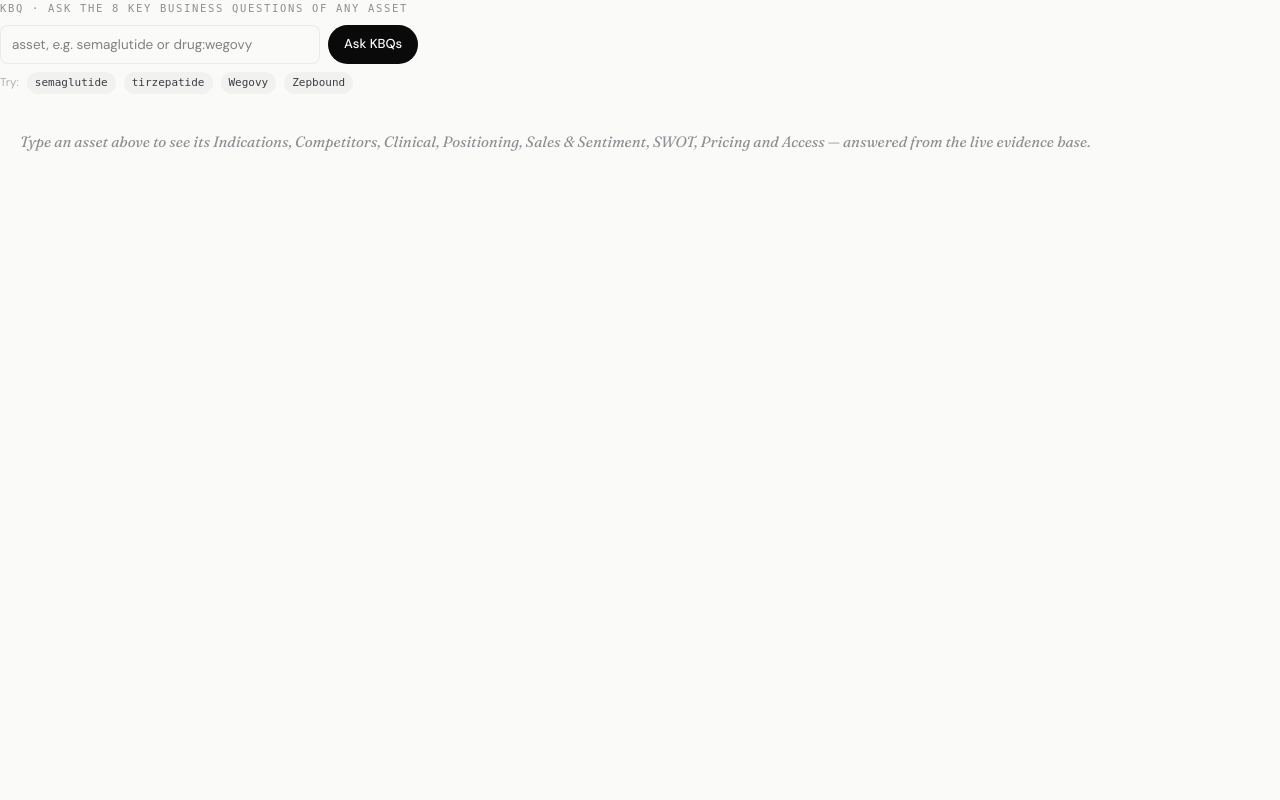
KbqQueryTab (PB-SL10) › opens the provenance drawer with linked facts when an item is clicked
The width and height of the screenshot is (1280, 800).
Type "semaglutide" into the field with test id "kbq-asset-input". click: (160, 45)
box: [0,25,320,64]
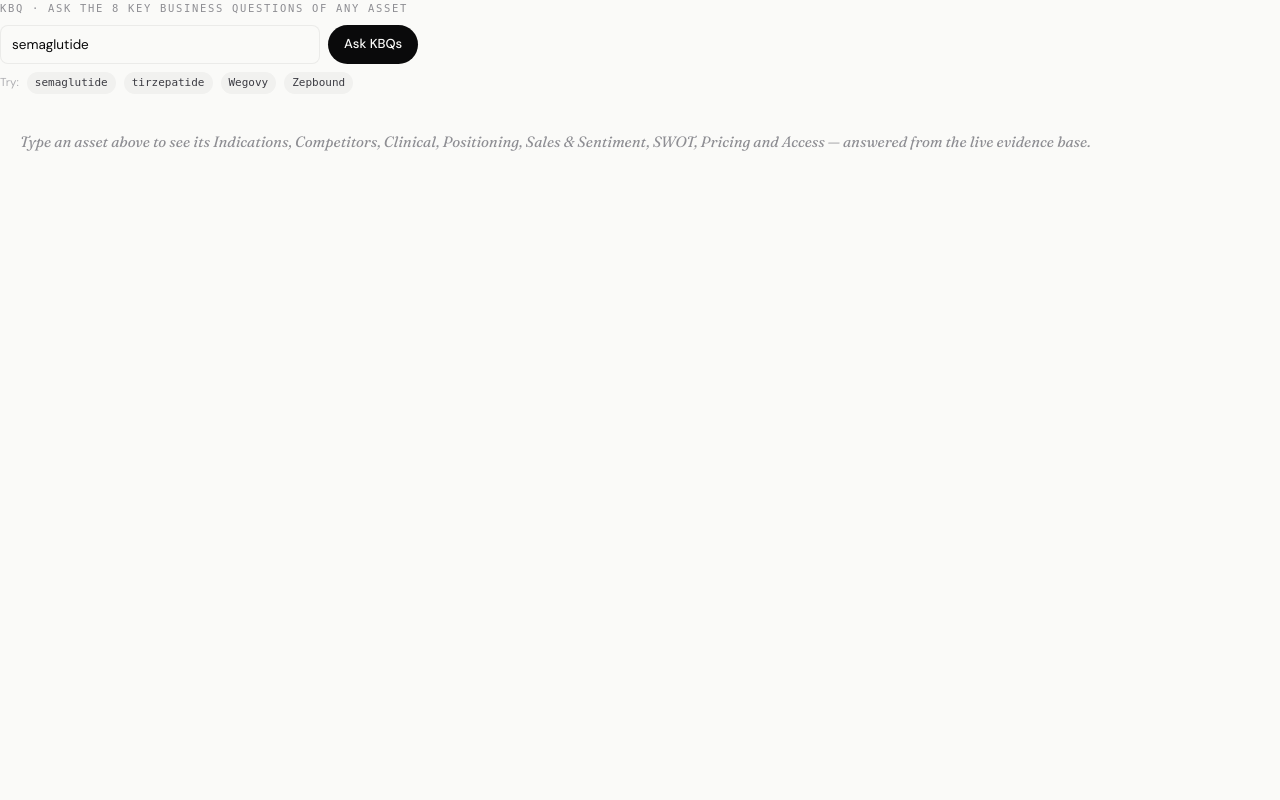
Click the button with test id "kbq-ask". click: (373, 45)
box: [328,25,418,64]
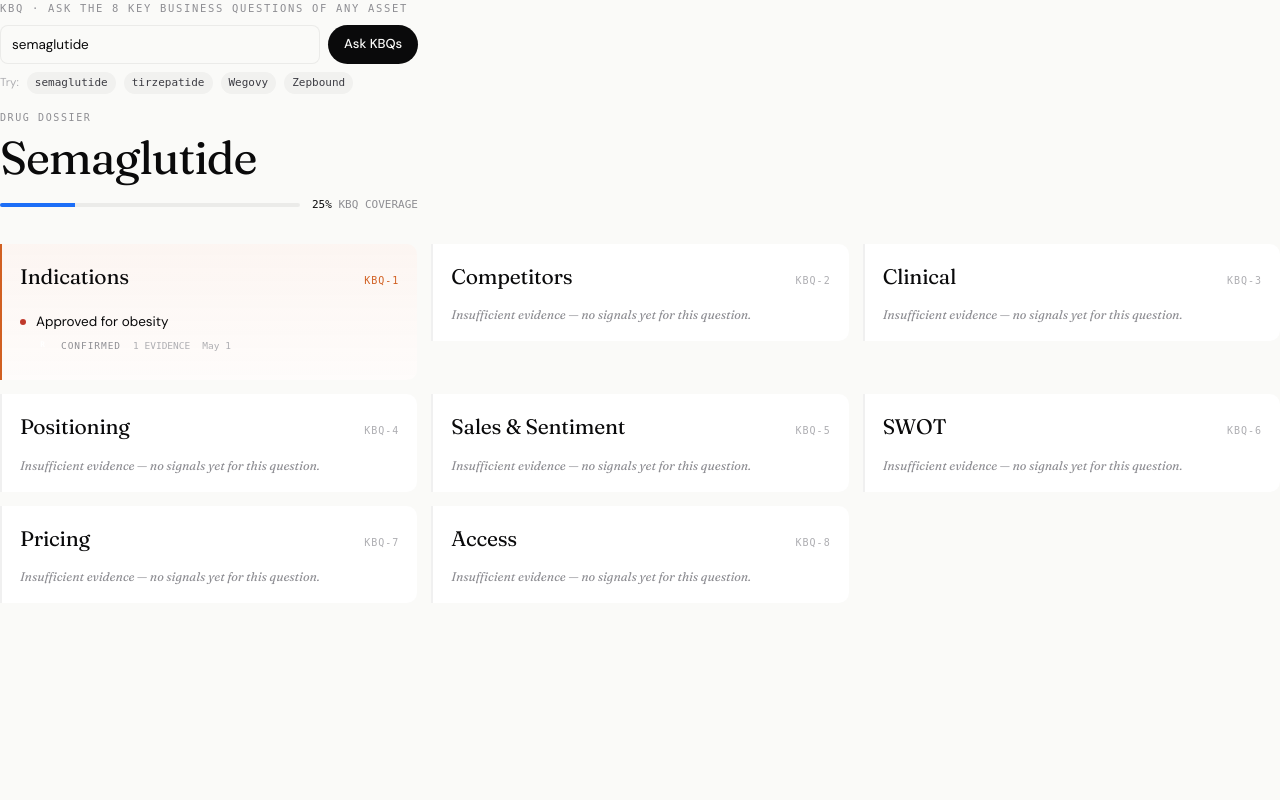
expect the element with test id "kbq-ready" is shown: met
Click the text "Approved for obesity". click: (102, 322)
box: [36,314,169,330]
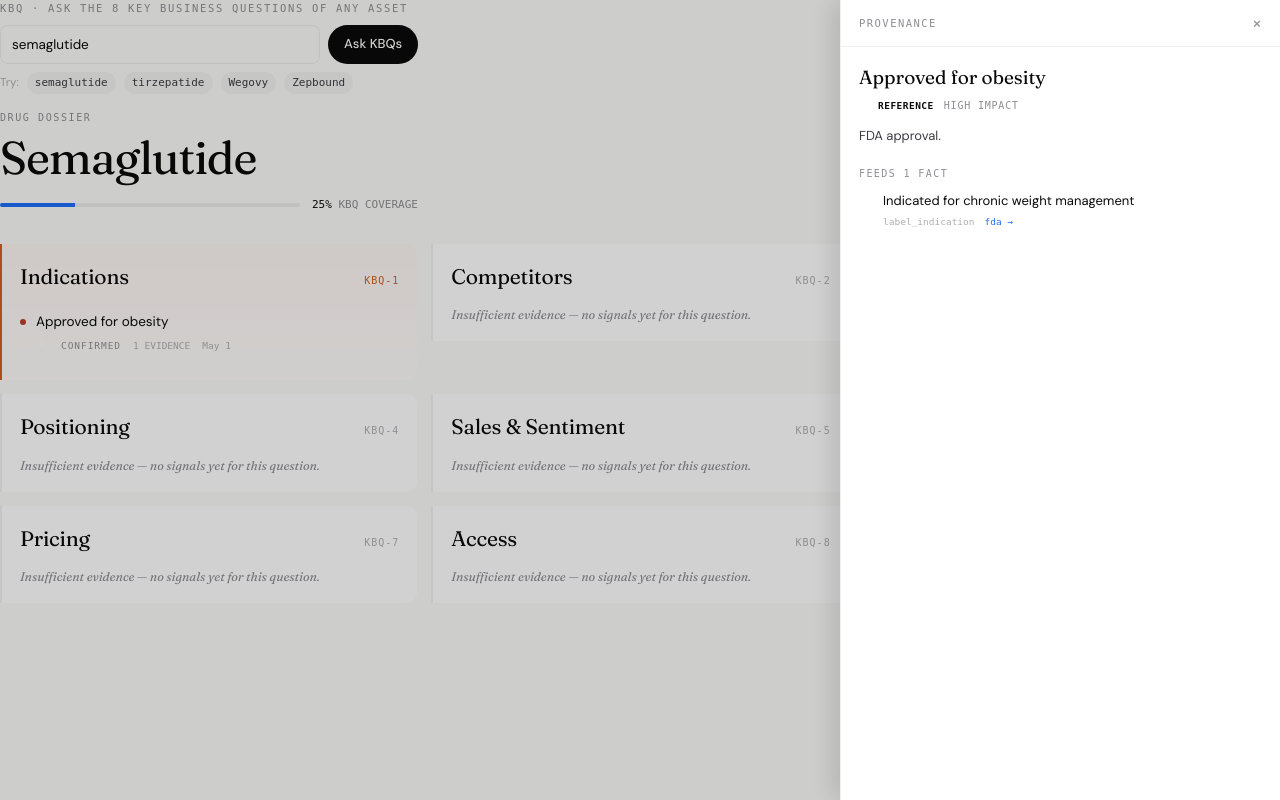
expect the text "Indicated for chronic weight management" is shown: met, box [883,192,1134,209]
expect the text "Feeds 1 fact" is shown: met, box [859,168,948,179]
